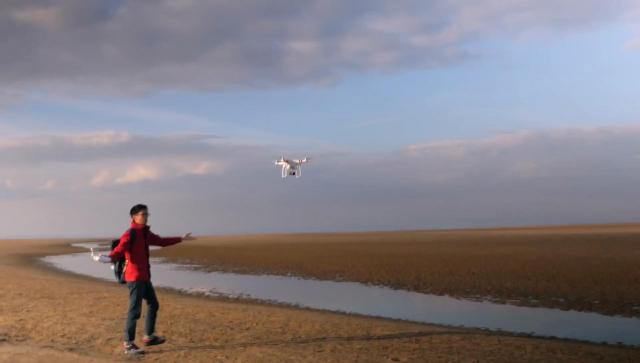drone: (272, 155, 310, 179)
